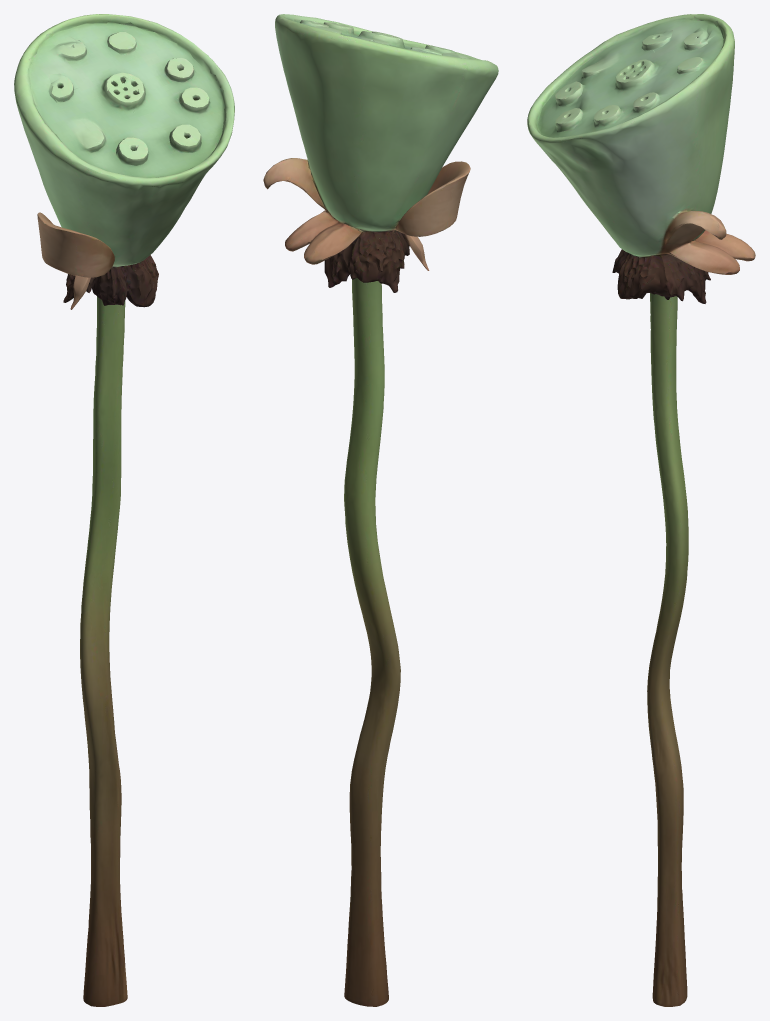
The model's file is lotus-pod.glb.
The picture shows the model from 3 angles, left to right: view 1: azimuth 30°, elevation 25°; view 2: azimuth 150°, elevation 25°; view 3: azimuth 270°, elevation 25°; orthographic projection. The views are drawn at different scales.
Parts seen in each view (by area): view 1: lotus-pod; view 2: lotus-pod; view 3: lotus-pod.
Part boxes in pixels (x1,y1,x2,y2): lotus-pod: [14, 14, 234, 1006]; lotus-pod: [263, 14, 498, 1006]; lotus-pod: [527, 14, 755, 1006].
Bounding box in the file's own units: 0.3495 × 1.65 × 0.3541.
Materials: 1 (1 with a texture image).
